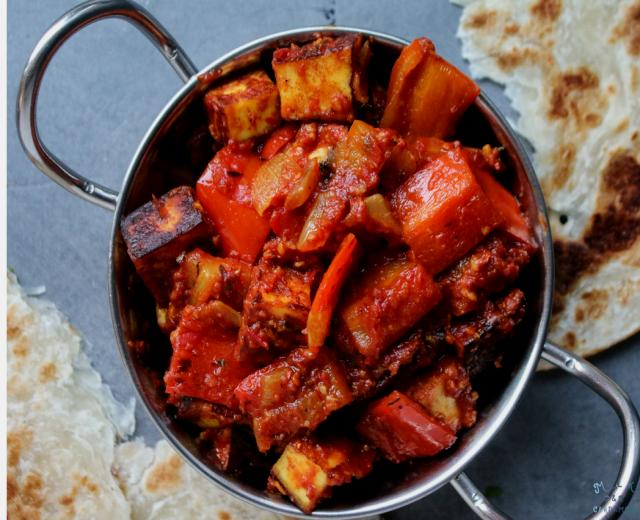kadai paneer: (101, 28, 552, 508), (13, 12, 158, 186), (180, 26, 412, 90), (7, 400, 124, 519), (6, 286, 84, 405), (532, 0, 636, 89), (159, 1, 336, 42), (106, 216, 143, 404)
